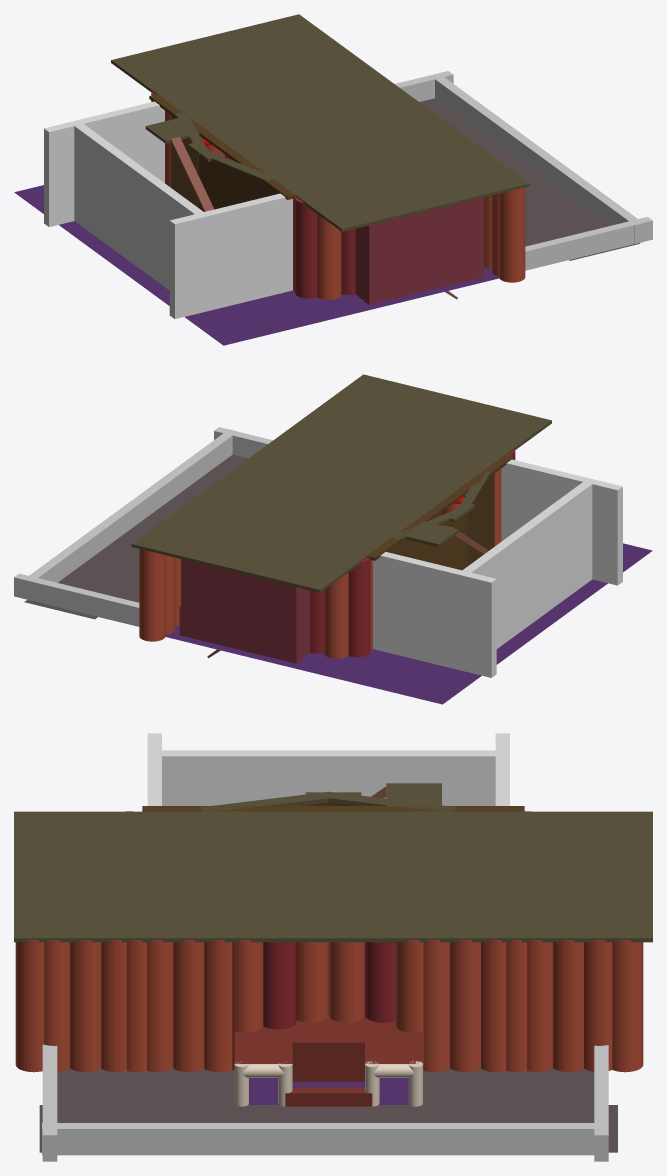
File: theaterbackup.dae
The picture shows the model from 3 angles, top to bottom: view 1: azimuth 30°, elevation 25°; view 2: azimuth 150°, elevation 25°; view 3: azimuth 270°, elevation 25°; orthographic projection. The views are drawn at different scales.
Visible parts, largest first — view 1: roof_004, Cube_020, Cube_018, Cube_019, Cube_048, floor, Cube_017, Cube_005, Cylinder_002, Cylinder_003, Cube_047, roof (+5 smaller); view 2: roof_004, Cube_020, Cube_017, Cube_019, Cube_039, floor, Cube_018, Cylinder_005, Cylinder_007, Cube_003, Cube_005, roof (+4 smaller); view 3: Cube_020, roof_004, Cube_019, Cylinder_044, Cylinder_036, Cylinder_037, Cylinder_058, roof, Cube_030, Cube_036, Cube_026, roof_005 (+4 smaller).
Part boxes in pixels (box(x1,y1,x2,y2)): roof_004: box(111, 14, 529, 231); Cube_020: box(395, 71, 652, 282); Cube_018: box(169, 193, 292, 318); Cube_019: box(72, 123, 205, 290); Cube_048: box(364, 197, 484, 304); floor: box(14, 185, 499, 345); Cube_017: box(44, 101, 164, 226); Cube_005: box(204, 159, 278, 209); Cylinder_002: box(295, 197, 317, 298); Cylinder_003: box(317, 214, 341, 299); Cube_047: box(355, 223, 378, 304); roof: box(149, 94, 295, 199); roof_004: box(131, 374, 551, 592); Cube_020: box(14, 427, 272, 641); Cube_017: box(373, 552, 496, 677); Cube_019: box(460, 480, 594, 648); Cube_039: box(181, 559, 301, 663); floor: box(165, 543, 652, 704); Cube_018: box(501, 459, 622, 585); Cylinder_005: box(348, 557, 370, 657); Cylinder_007: box(324, 572, 348, 658); Cube_003: box(387, 517, 463, 570); Cube_005: box(468, 473, 494, 565); roof: box(367, 454, 513, 560); Cube_020: box(15, 940, 643, 1161); roof_004: box(14, 811, 652, 942); Cube_019: box(155, 750, 502, 805); Cylinder_044: box(263, 942, 296, 1029); Cylinder_036: box(328, 942, 364, 1022); Cylinder_037: box(296, 942, 328, 1022); Cylinder_058: box(365, 942, 395, 1022); roof: box(142, 806, 524, 811); Cube_030: box(372, 1021, 415, 1063); Cube_036: box(242, 1026, 285, 1063); Cube_026: box(285, 1018, 372, 1036); roof_005: box(386, 783, 441, 806).
Bounding box in the file's own units: 97.01 × 88.16 × 24.86.
